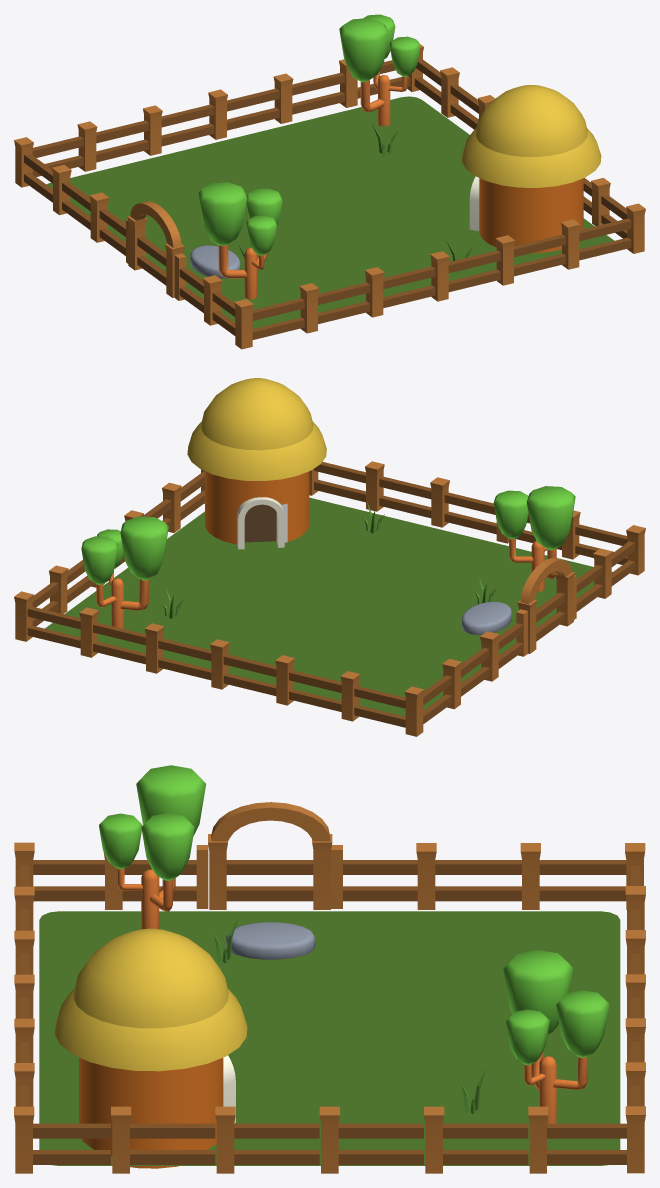
Rendered from paddock_zebra.fbx.
3 views of the same model, one above another, from view 1: azimuth 30°, elevation 25°; view 2: azimuth 150°, elevation 25°; view 3: azimuth 270°, elevation 25° (orthographic). The views are drawn at different scales.
Visible parts, largest first — view 1: Plane.004, paddock_zebra, house_zebra, Tree.020, Tree.037, door_paddock_zebra, Cylinder.001; view 2: Plane.004, paddock_zebra, house_zebra, Tree.037, Tree.020, door_paddock_zebra, Cylinder.001, house_zebra.001; view 3: Plane.004, paddock_zebra, house_zebra, Tree.037, Tree.020, door_paddock_zebra, Cylinder.001.
Boxes of the visible parts, x1,y1,x2,y2 form: Plane.004: (46,96,614,328); paddock_zebra: (14,43,645,349); house_zebra: (462,85,601,253); Tree.020: (198,182,282,299); Tree.037: (339,14,420,126); door_paddock_zebra: (127,201,184,297); Cylinder.001: (190,245,240,278); Plane.004: (45,497,612,716); paddock_zebra: (14,461,645,736); house_zebra: (187,378,326,549); Tree.037: (81,516,168,628); Tree.020: (493,486,575,591); door_paddock_zebra: (517,557,575,653); Cylinder.001: (462,601,511,634); house_zebra.001: (244,504,276,542); Plane.004: (39,911,620,1165); paddock_zebra: (14,842,645,1173); house_zebra: (54,928,247,1168); Tree.037: (503,950,609,1123); Tree.020: (99,765,206,929); door_paddock_zebra: (208,802,332,909); Cylinder.001: (226,922,315,959).
Bounding box in the file's own units: 2806 × 977 × 2747.
